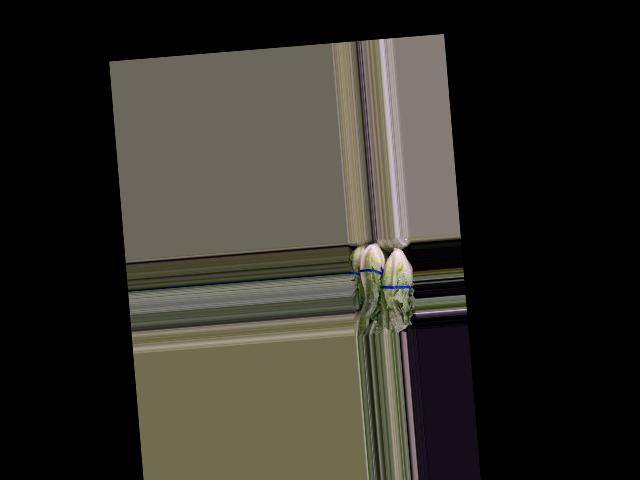lettuce: (351, 241, 389, 319)
